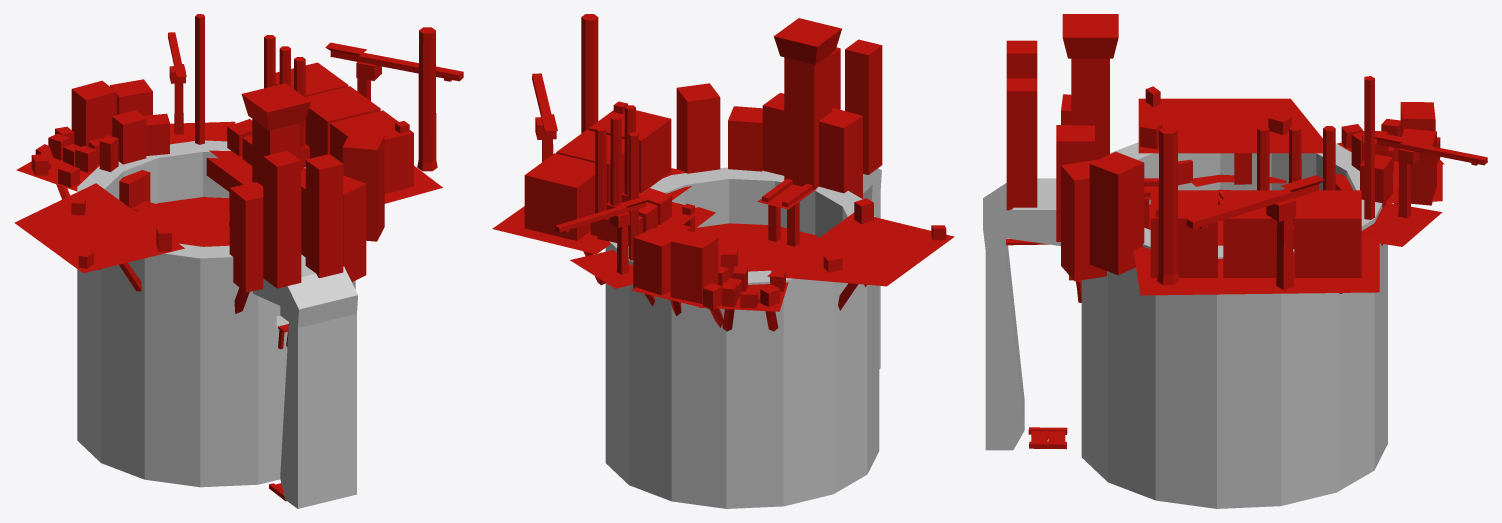
File: mugcity.obj
3 renders of one model, left to right at view 1: azimuth 30°, elevation 25°; view 2: azimuth 150°, elevation 25°; view 3: azimuth 270°, elevation 25°, orthographic. The views are drawn at different scales.
Parts seen in each view (by area): view 1: mug, Plane.002, Cube.051, Cube.050, Cube.031, Cube.016, coffee, Cube.030, Cube.014, Cylinder.011, Cube.025, Cube.029 (+19 smaller); view 2: mug, Plane.002, Cube.004, Cube.015, Cube.051, Cube.030, Cube.031, coffee, Cube.025, Cylinder.006, Cube.016, Cube.026 (+16 smaller); view 3: mug, Plane.002, Cylinder.006, Cube.030, Cube.015, Cube.050, Cube.014, Cube.016, Cube.028, Cube.029, Cube.004, Cylinder.011 (+14 smaller).
Part boxes in pixels (bbox=[...]): mug: bbox=[77, 140, 357, 508]; Plane.002: bbox=[14, 183, 184, 273]; Cube.051: bbox=[263, 150, 301, 288]; Cube.050: bbox=[305, 154, 343, 278]; Cube.031: bbox=[229, 182, 263, 292]; Cube.016: bbox=[330, 110, 413, 193]; coffee: bbox=[138, 197, 229, 246]; Cube.030: bbox=[342, 132, 384, 241]; Cube.014: bbox=[305, 86, 380, 158]; Cylinder.011: bbox=[417, 27, 437, 171]; Cube.025: bbox=[71, 80, 116, 146]; Cube.029: bbox=[343, 175, 366, 281]; mug: bbox=[605, 167, 881, 508]; Plane.002: bbox=[767, 212, 954, 286]; Cube.004: bbox=[784, 53, 831, 189]; Cube.015: bbox=[524, 153, 606, 240]; Cube.051: bbox=[845, 39, 882, 174]; Cube.030: bbox=[676, 83, 720, 173]; Cube.031: bbox=[819, 108, 862, 198]; coffee: bbox=[695, 223, 819, 271]; Cube.025: bbox=[670, 230, 718, 303]; Cylinder.006: bbox=[492, 132, 691, 285]; Cube.016: bbox=[589, 110, 671, 192]; Cube.026: bbox=[633, 228, 677, 295]; mug: bbox=[983, 142, 1387, 508]; Plane.002: bbox=[1138, 98, 1322, 153]; Cylinder.006: bbox=[1133, 76, 1379, 295]; Cube.030: bbox=[1089, 151, 1144, 275]; Cube.015: bbox=[1294, 190, 1361, 277]; Cube.050: bbox=[1006, 78, 1037, 210]; Cube.014: bbox=[1223, 190, 1279, 277]; Cube.016: bbox=[1150, 190, 1217, 277]; Cube.028: bbox=[1186, 175, 1324, 289]; Cube.029: bbox=[1061, 159, 1106, 281]; Cube.004: bbox=[1071, 58, 1109, 159]; Cylinder.011: bbox=[1157, 126, 1179, 284].
Size of the model in its own units: 26.54 by 23.69 by 26.04.
